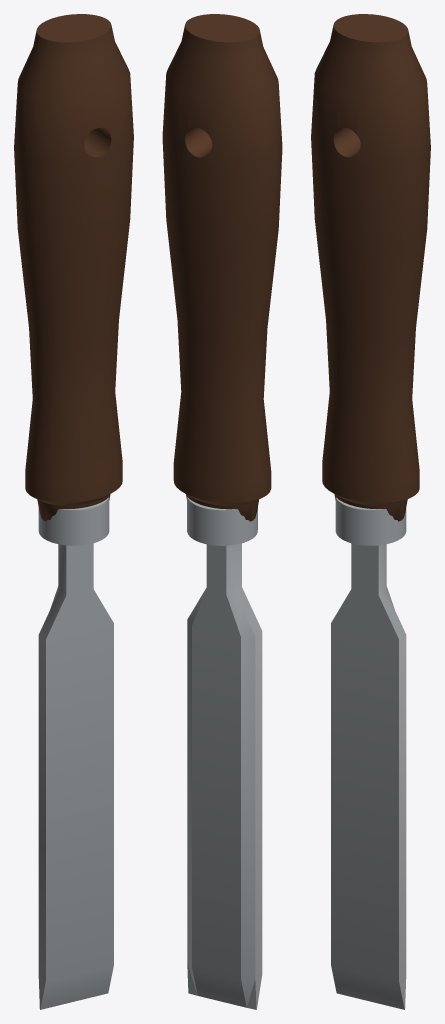
The picture shows the model from 3 angles, left to right: view 1: azimuth 30°, elevation 25°; view 2: azimuth 150°, elevation 25°; view 3: azimuth 330°, elevation 25°; orthographic projection.
Parts seen in each view (by area): view 1: Brown handle, Continuous blade cutting bevel tang, Steel ferrule around handle entry; view 2: Brown handle, Continuous blade cutting bevel tang, Steel ferrule around handle entry; view 3: Brown handle, Continuous blade cutting bevel tang, Steel ferrule around handle entry.
Part boxes in pixels (left/top/right/bottom): Brown handle: left=14, top=14, right=133, bottom=521; Continuous blade cutting bevel tang: left=38, top=543, right=113, bottom=1009; Steel ferrule around handle entry: left=38, top=497, right=109, bottom=545; Brown handle: left=162, top=14, right=282, bottom=521; Continuous blade cutting bevel tang: left=187, top=543, right=262, bottom=1009; Steel ferrule around handle entry: left=187, top=497, right=257, bottom=545; Brown handle: left=311, top=14, right=430, bottom=521; Continuous blade cutting bevel tang: left=331, top=543, right=406, bottom=1009; Steel ferrule around handle entry: left=335, top=497, right=406, bottom=545.
Bounding box in the file's own units: 0.032 × 0.273 × 0.0256.
